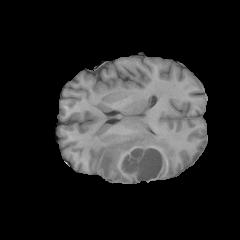glioma: (96, 130, 177, 181)
